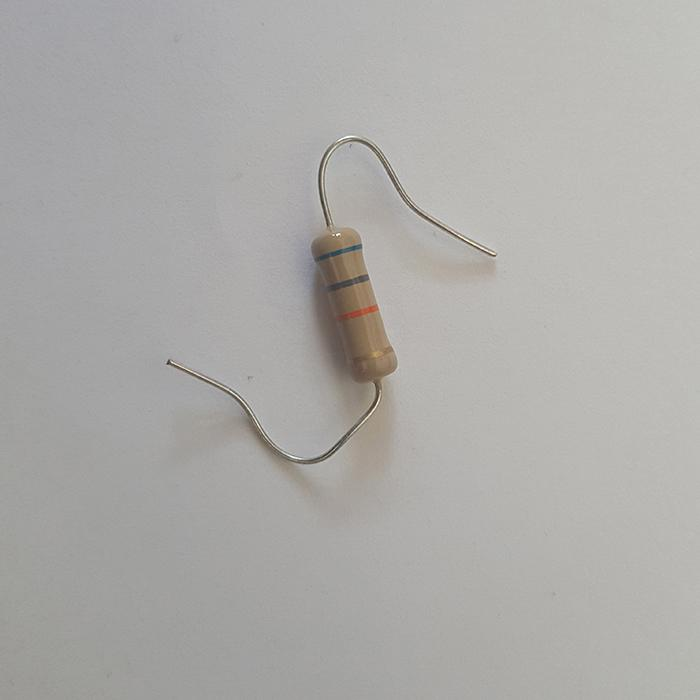resistor: (309, 225, 396, 382)
